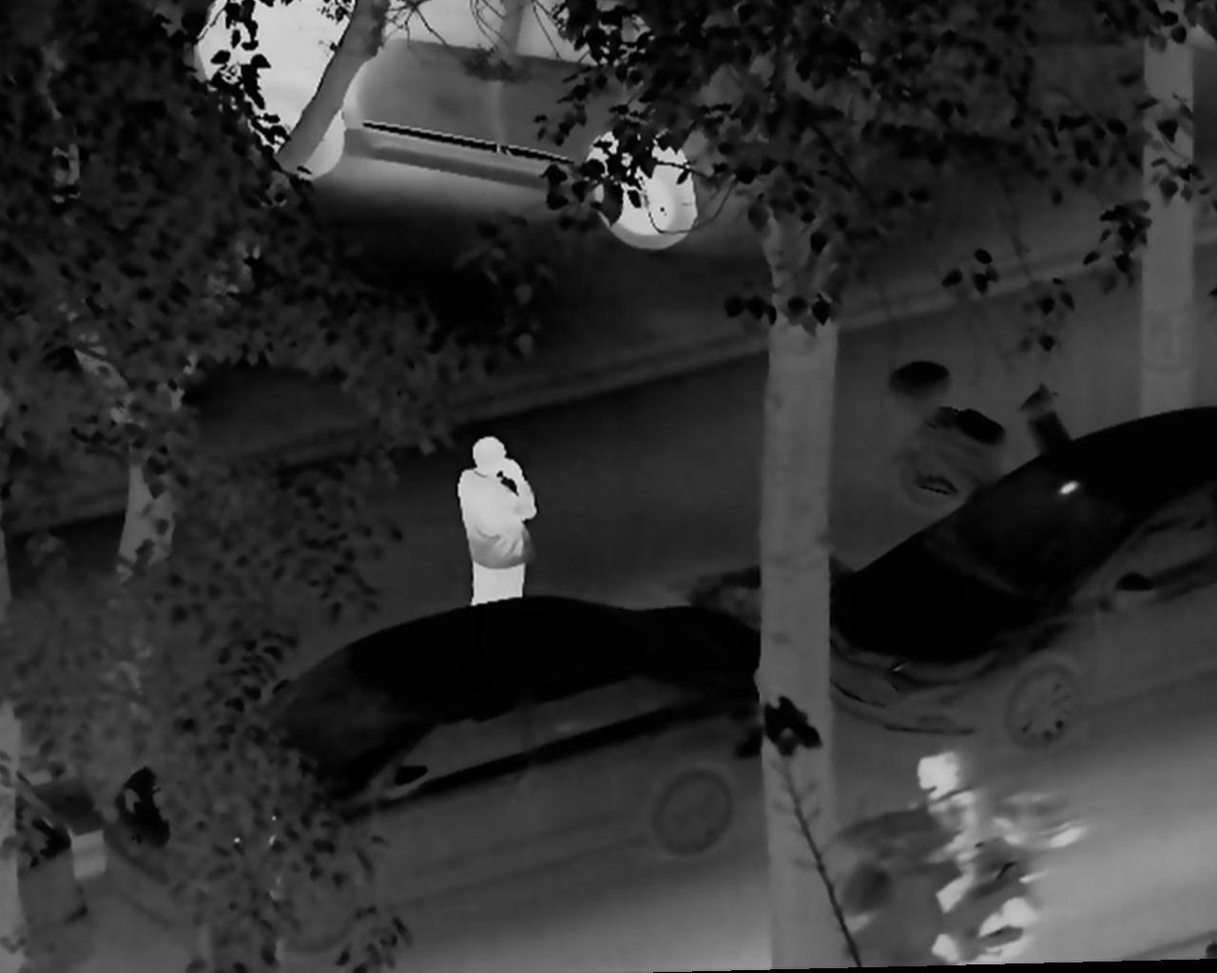person: (897, 739, 975, 973), (452, 435, 538, 612)
